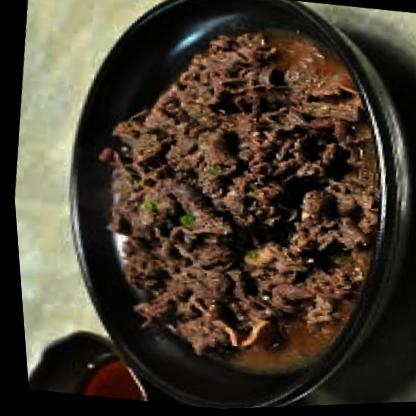bulgogi: (70, 8, 405, 389)
